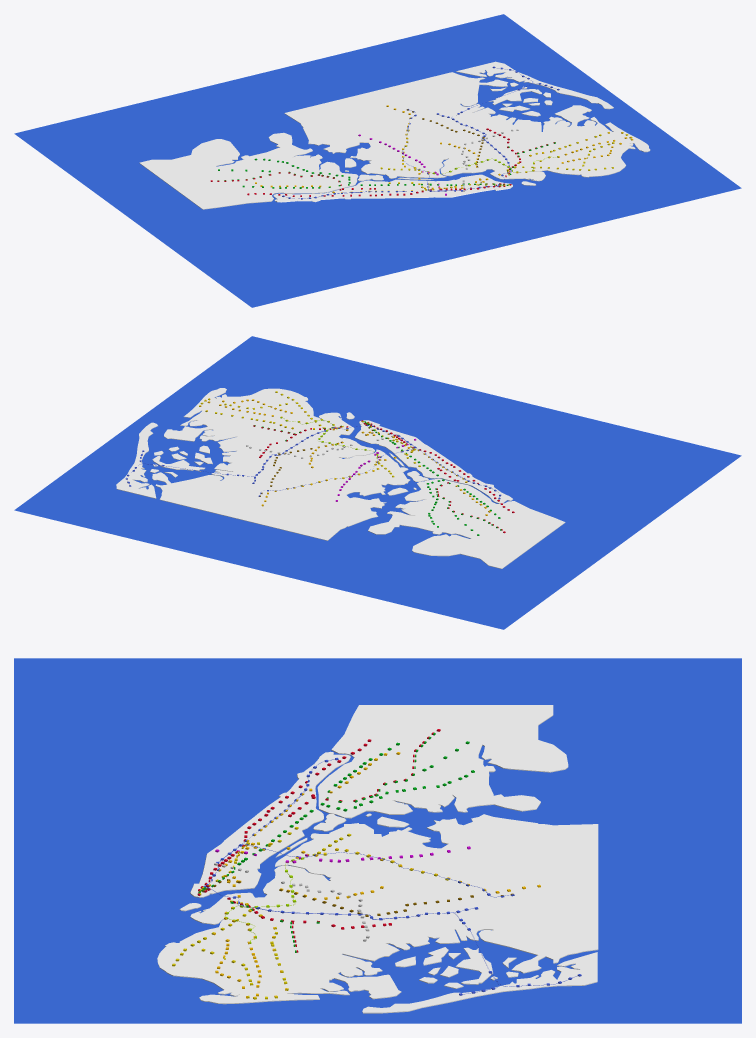
File: subway_map_Map_stations_7_24.glb
3 views of the same model, one above another, from view 1: azimuth 30°, elevation 25°; view 2: azimuth 150°, elevation 25°; view 3: azimuth 270°, elevation 25° (orthographic). The views are drawn at different scales.
Visible parts, largest first — view 1: WATER, BK_QUEENS, BRONX, MANHATTAN, ROCKAWAY, BROAD_CHANNEL; view 2: WATER, BK_QUEENS, BRONX, MANHATTAN, ROCKAWAY, BROAD_CHANNEL; view 3: WATER, BK_QUEENS, BRONX, MANHATTAN, ROCKAWAY, BROAD_CHANNEL.
Boxes of the visible parts, x1,y1,x2,y2 form: WATER: (14, 14, 741, 307); BK_QUEENS: (284, 72, 650, 181); BRONX: (139, 132, 358, 209); MANHATTAN: (273, 174, 512, 202); ROCKAWAY: (456, 61, 613, 109); BROAD_CHANNEL: (488, 82, 552, 116); WATER: (14, 336, 741, 629); BK_QUEENS: (152, 388, 410, 540); BRONX: (368, 478, 565, 568); MANHATTAN: (354, 420, 512, 503); ROCKAWAY: (116, 422, 157, 498); BROAD_CHANNEL: (150, 445, 212, 477); WATER: (14, 658, 741, 1023); BK_QUEENS: (157, 814, 598, 1004); BRONX: (317, 705, 568, 818); MANHATTAN: (190, 751, 350, 897); ROCKAWAY: (362, 952, 597, 1013); BROAD_CHANNEL: (395, 947, 518, 988).
Size of the model in its own units: 119 by 1.2 by 100.
